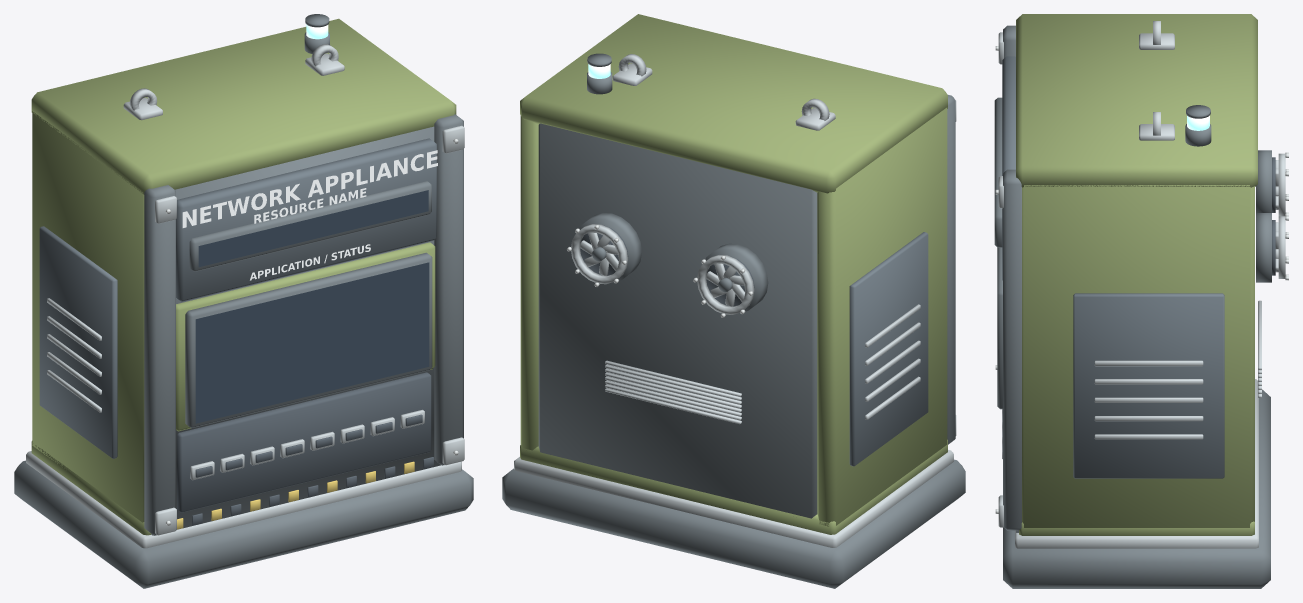
The model's file is network_appliance_standard.glb.
3 renders of one model, left to right at view 1: azimuth 30°, elevation 25°; view 2: azimuth 150°, elevation 25°; view 3: azimuth 270°, elevation 25°, orthographic. The views are drawn at different scales.
Visible parts, largest first — view 1: Roof_olive, LiveViewSurface_glass, SideWall_olive, CornerPost_frame, Skid_frame, PatchPanel_black, FrontHeader_graphite, SideServicePanel_graphite, SealFront_frame, SkidDeck_steel, LiveViewSurfaceFrame_frame, ResourceNameSurface_glass (+13 smaller); view 2: BackWall_frame, Roof_olive, SideWall_olive, Skid_frame, SideServicePanel_graphite, SkidDeck_steel, KickPlate_olive, RearFan_steel, RearVent_steel, CornerPost_frame, RearFan_frame, SideLouver_steel (+3 smaller); view 3: SideWall_olive, Roof_olive, SideServicePanel_graphite, Skid_frame, CornerPost_frame, SkidDeck_steel, SideLouver_steel, RearFan_frame, KickPlate_olive, FrontHeader_graphite, RearFan_steel, ResourceNameSurfaceFrame_frame (+6 smaller).
Part boxes in pixels (bbox=[...]): Roof_olive: bbox=[31, 18, 456, 194]; LiveViewSurface_glass: bbox=[195, 262, 429, 423]; SideWall_olive: bbox=[32, 111, 144, 522]; CornerPost_frame: bbox=[144, 114, 463, 535]; Skid_frame: bbox=[14, 460, 473, 588]; PatchPanel_black: bbox=[177, 372, 431, 512]; FrontHeader_graphite: bbox=[176, 138, 436, 301]; SideServicePanel_graphite: bbox=[39, 226, 117, 458]; SealFront_frame: bbox=[151, 126, 440, 535]; SkidDeck_steel: bbox=[26, 451, 461, 548]; LiveViewSurfaceFrame_frame: bbox=[185, 252, 432, 428]; ResourceNameSurface_glass: bbox=[198, 190, 428, 267]; BackWall_frame: bbox=[538, 123, 817, 518]; Roof_olive: bbox=[520, 14, 947, 193]; SideWall_olive: bbox=[520, 107, 947, 526]; Skid_frame: bbox=[502, 459, 965, 588]; SideServicePanel_graphite: bbox=[849, 232, 928, 466]; SkidDeck_steel: bbox=[514, 450, 953, 547]; KickPlate_olive: bbox=[520, 439, 947, 534]; RearFan_steel: bbox=[571, 224, 754, 314]; RearVent_steel: bbox=[605, 360, 741, 424]; CornerPost_frame: bbox=[947, 95, 955, 444]; RearFan_frame: bbox=[579, 213, 768, 313]; SideLouver_steel: bbox=[865, 304, 920, 419]; SideWall_olive: bbox=[1022, 185, 1254, 527]; Roof_olive: bbox=[1016, 14, 1257, 187]; SideServicePanel_graphite: bbox=[1073, 293, 1224, 478]; Skid_frame: bbox=[1003, 389, 1270, 588]; CornerPost_frame: bbox=[1003, 25, 1021, 530]; SkidDeck_steel: bbox=[1015, 379, 1258, 548]; SideLouver_steel: bbox=[1094, 360, 1203, 439]; RearFan_frame: bbox=[1256, 150, 1271, 282]; KickPlate_olive: bbox=[1019, 521, 1254, 535]; FrontHeader_graphite: bbox=[1002, 56, 1015, 280]; RearFan_steel: bbox=[1275, 153, 1285, 278]; ResourceNameSurfaceFrame_frame: bbox=[994, 97, 1002, 247].
Size of the model in its own units: 2 by 2.48 by 1.47.
